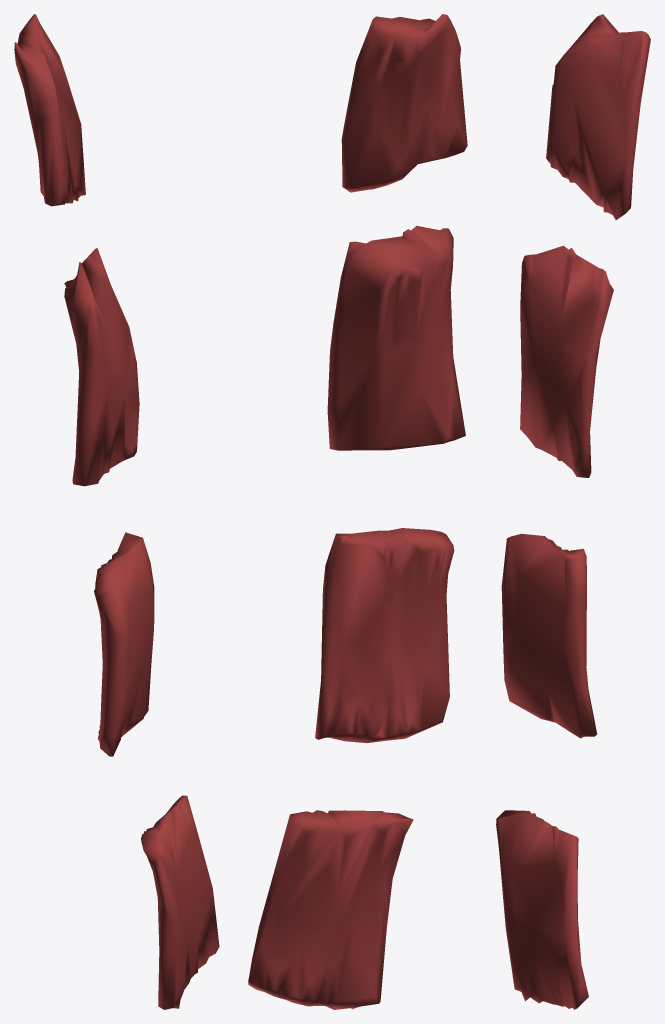
Rendered from ventral-parts-of-lateral-intertransversarii-lumborum-muscles-l.glb.
The picture shows the model from 3 angles, left to right: view 1: azimuth 30°, elevation 25°; view 2: azimuth 150°, elevation 25°; view 3: azimuth 270°, elevation 25°; orthographic projection. The views are drawn at different scales.
Parts seen in each view (by area): view 1: Ventral parts of lateral intertransversarii lumborum muscles; view 2: Ventral parts of lateral intertransversarii lumborum muscles; view 3: Ventral parts of lateral intertransversarii lumborum muscles.
Part boxes in pixels (x1=…): Ventral parts of lateral intertransversarii lumborum muscles: x1=14, y1=14, x2=219, y2=1009; Ventral parts of lateral intertransversarii lumborum muscles: x1=248, y1=14, x2=467, y2=1009; Ventral parts of lateral intertransversarii lumborum muscles: x1=496, y1=14, x2=650, y2=1009.
Bounding box in the file's own units: 0.0241 × 0.1165 × 0.0175.
